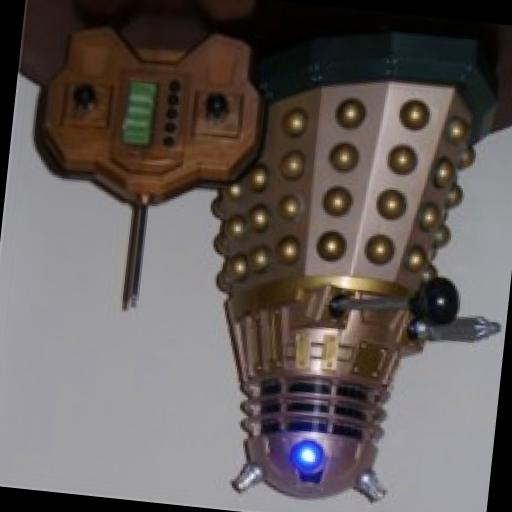dalek: (163, 2, 512, 512)
